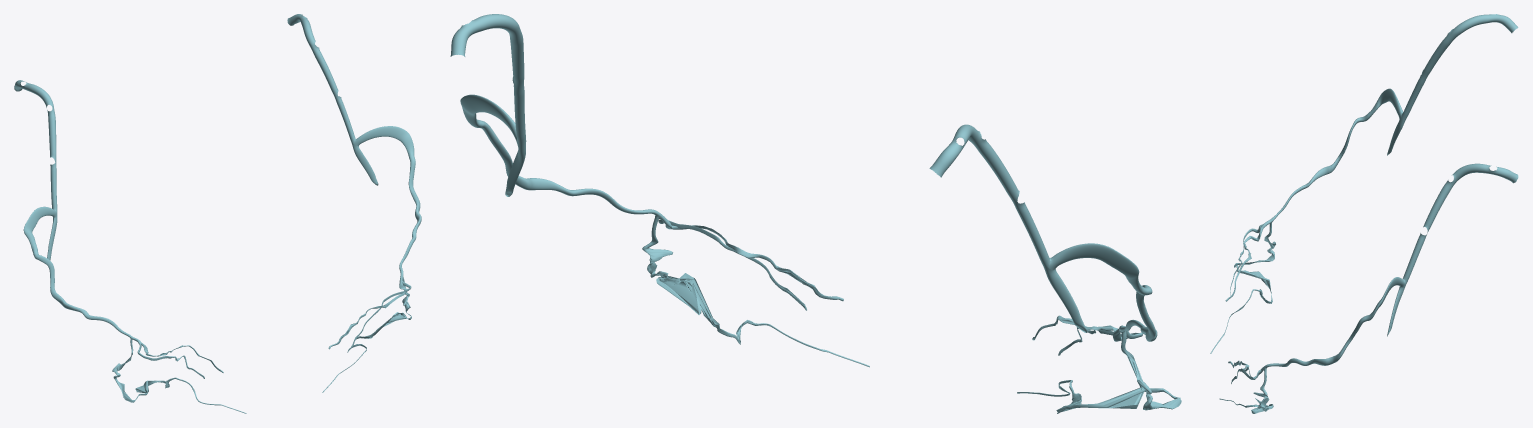
Rendered from advanced-central-v0.9.17.glb.
3 views of the same model, side by side, from view 1: azimuth 30°, elevation 25°; view 2: azimuth 150°, elevation 25°; view 3: azimuth 270°, elevation 25° (orthographic). The views are drawn at different scales.
Parts seen in each view (by area): view 1: Central right, Central left, MCA superior division right, MCA superior division left, Central cortical branch left, Central cortical branch right; view 2: Central right, MCA superior division left, MCA superior division right, Central left, Central cortical branch right, Central cortical branch left; view 3: MCA superior division right, MCA superior division left, Central left, Central right, Central cortical branch left, Central cortical branch right.
Part boxes in pixels (x1,y1,x2,y2): Central right: [328, 126, 421, 349]; Central left: [23, 206, 223, 372]; MCA superior division right: [287, 14, 378, 185]; MCA superior division left: [14, 80, 57, 260]; Central cortical branch left: [112, 339, 246, 413]; Central cortical branch right: [322, 277, 411, 392]; Central right: [460, 94, 843, 301]; MCA superior division left: [929, 124, 1087, 332]; MCA superior division right: [450, 14, 526, 196]; Central left: [1032, 243, 1157, 341]; Central cortical branch right: [642, 216, 869, 367]; Central cortical branch left: [1017, 331, 1181, 413]; MCA superior division right: [1387, 163, 1518, 336]; MCA superior division left: [1387, 14, 1518, 155]; Central left: [1225, 88, 1403, 301]; Central right: [1228, 277, 1405, 379]; Central cortical branch left: [1210, 222, 1275, 353]; Central cortical branch right: [1219, 368, 1273, 413].
Size of the model in its own units: 112 by 72.69 by 69.69.
